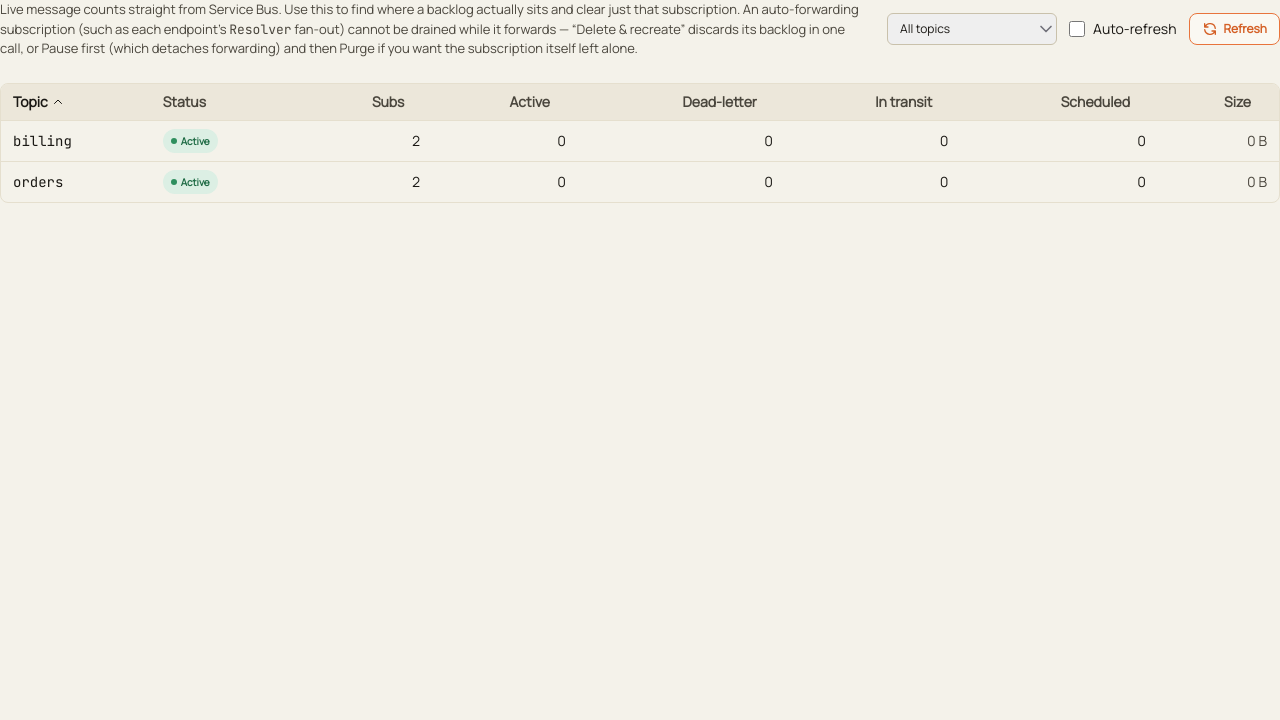
SubscriptionManager › counts a delete's blast radius including both dead-letter queues
Click the button "orders" at (38, 182), box x1=13 y1=172 x2=63 y2=192
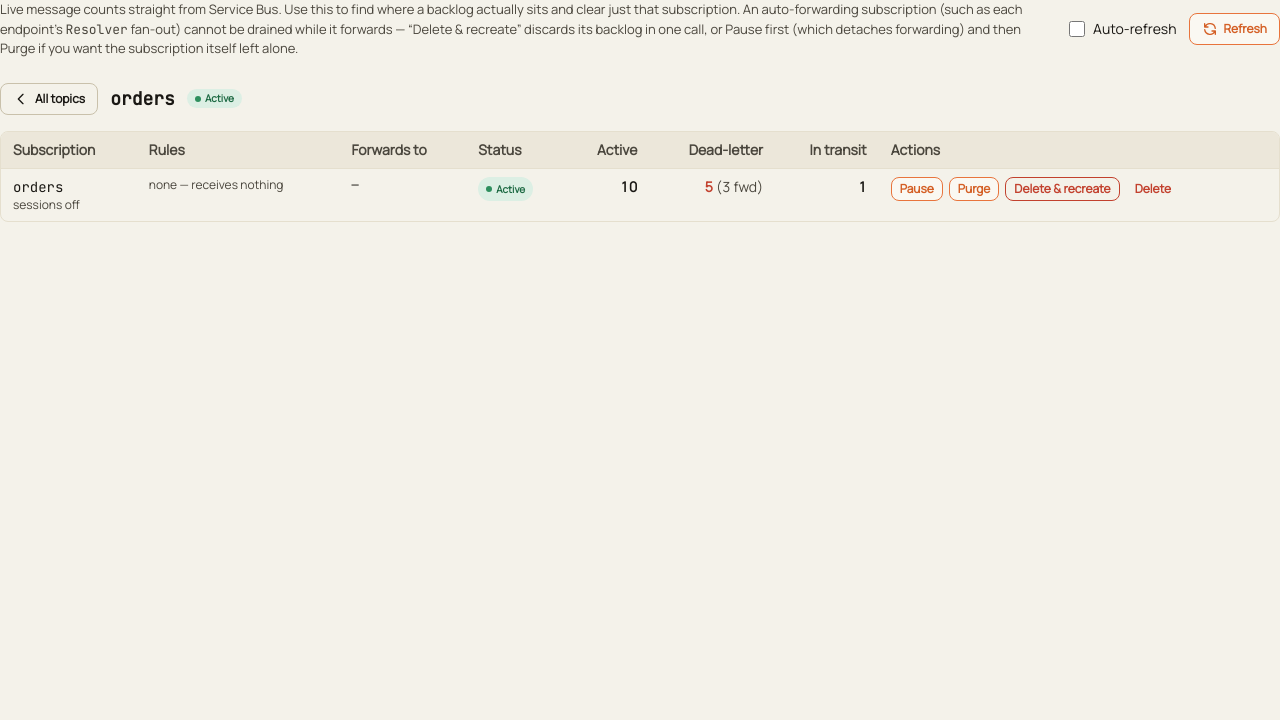
Click the button "Delete" at (1153, 188), box x1=1126 y1=176 x2=1180 y2=200
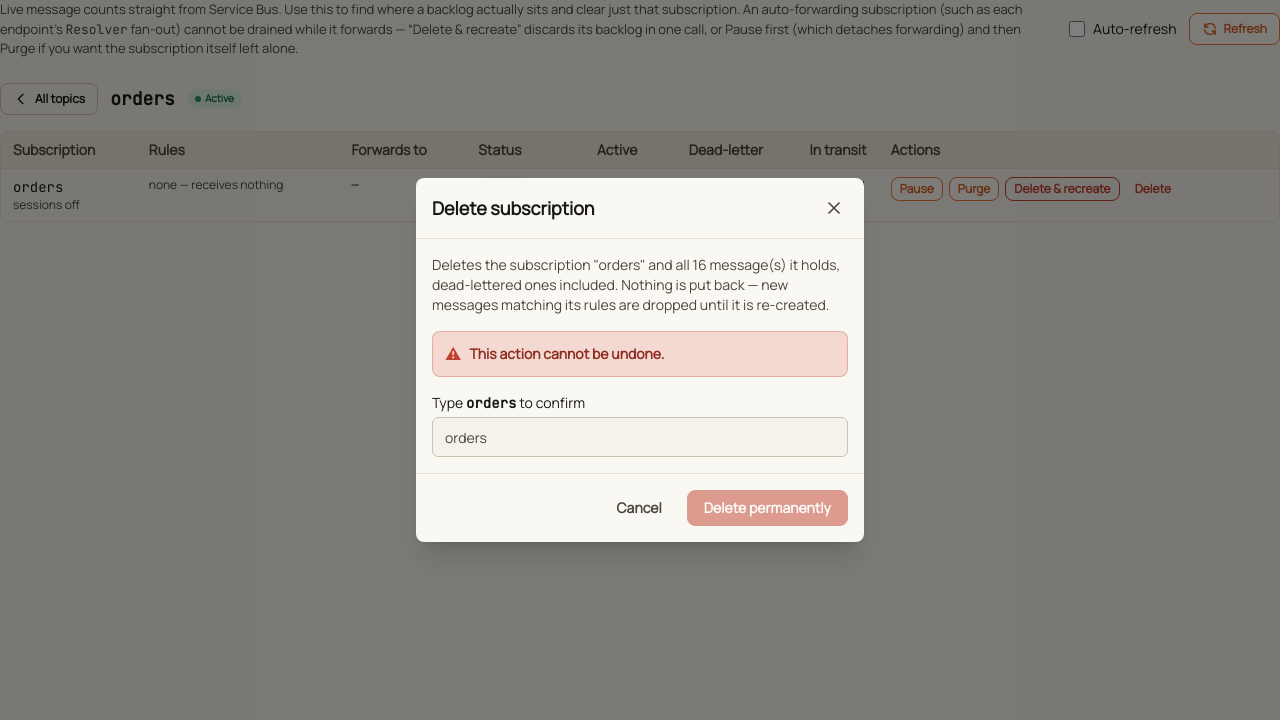
expect the text "all 16 message(s)" is shown: met, box x1=432 y1=255 x2=840 y2=314
